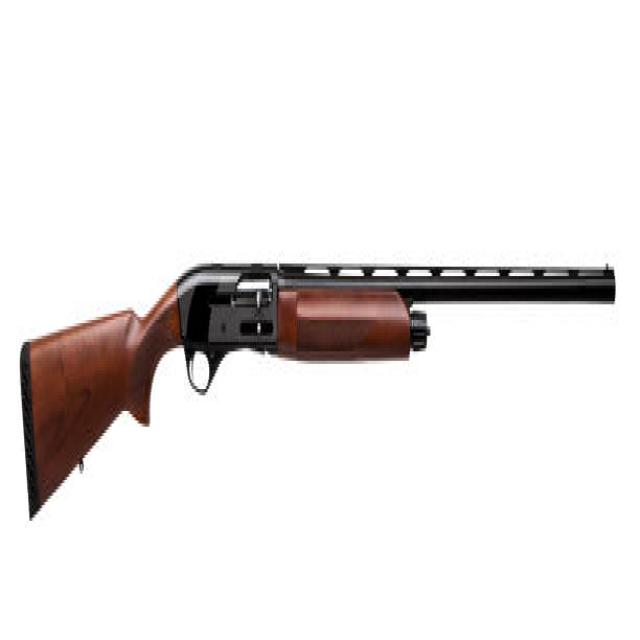rifle: (15, 242, 618, 536)
